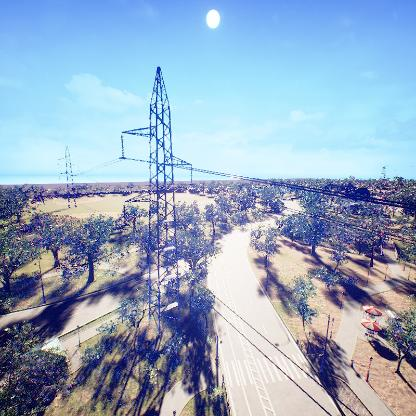tower: (118, 70, 198, 349)
